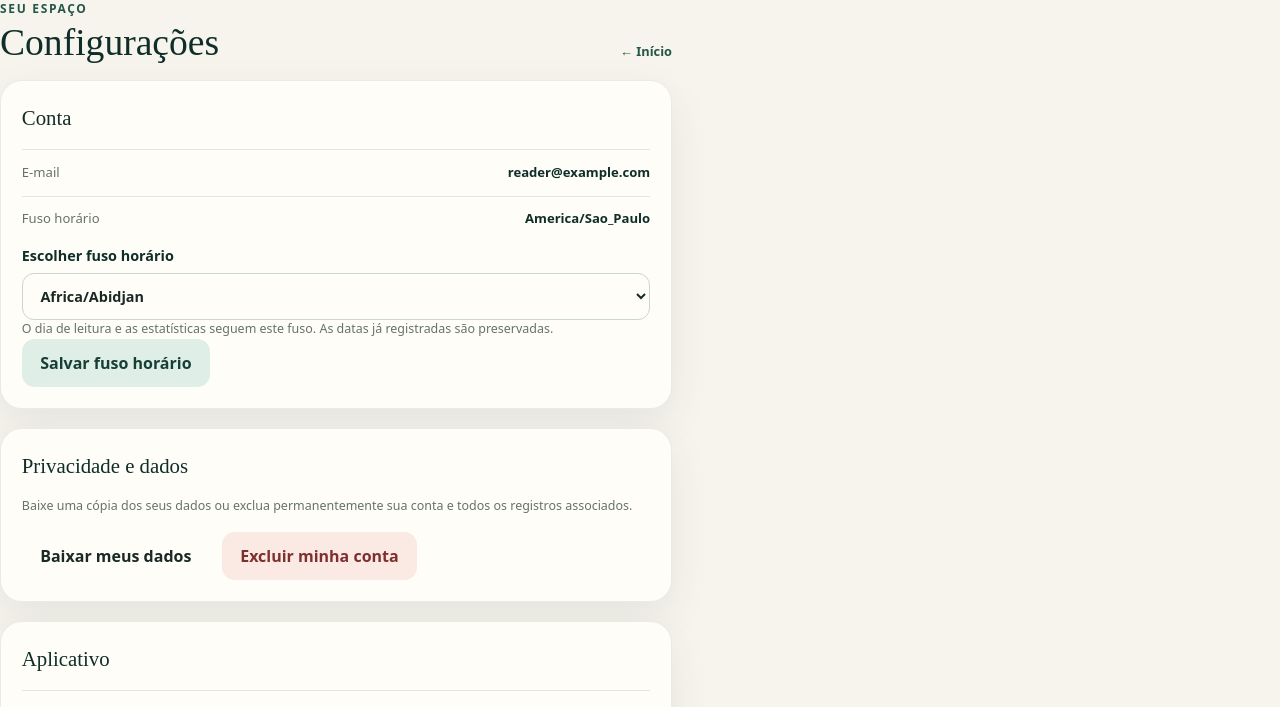
Test: SettingsComponent › opens an accessible delete dialog and requires confirmation
Click the button "Excluir minha conta" at (319, 556), box [222,532,417,580]
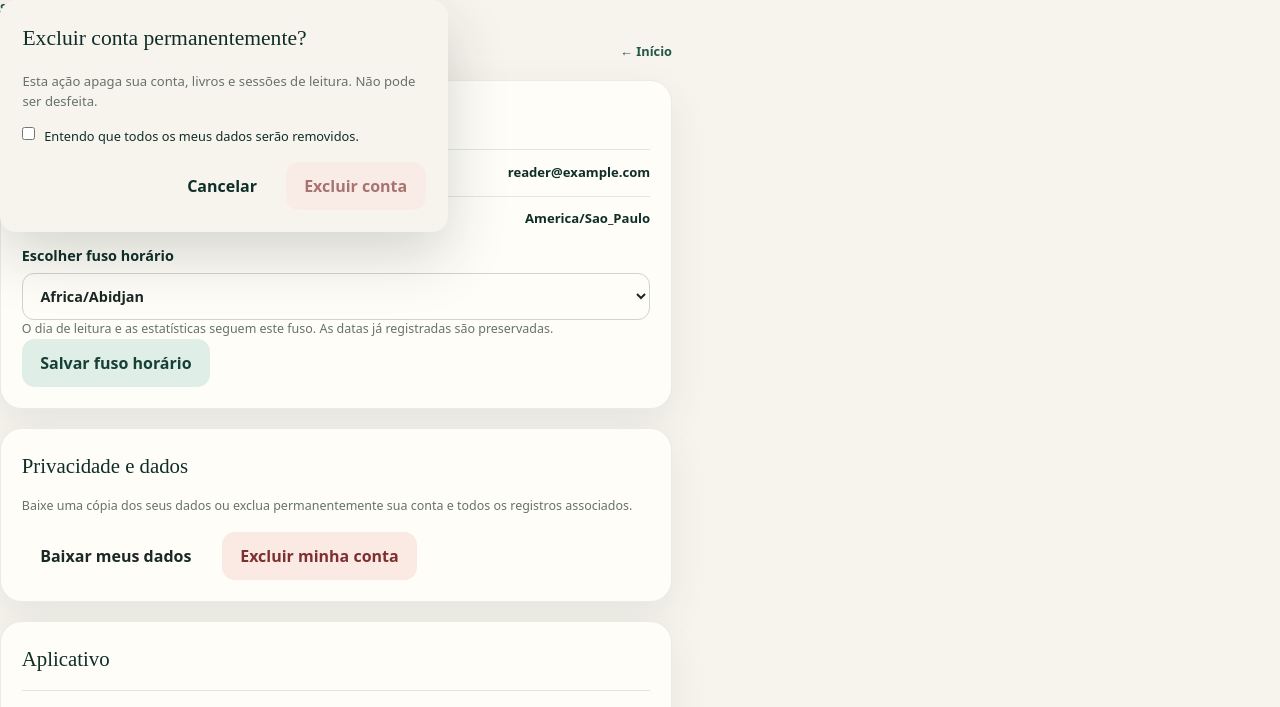
Expected: the text with id "delete-dialog-description" is shown, [22,71,426,112]
